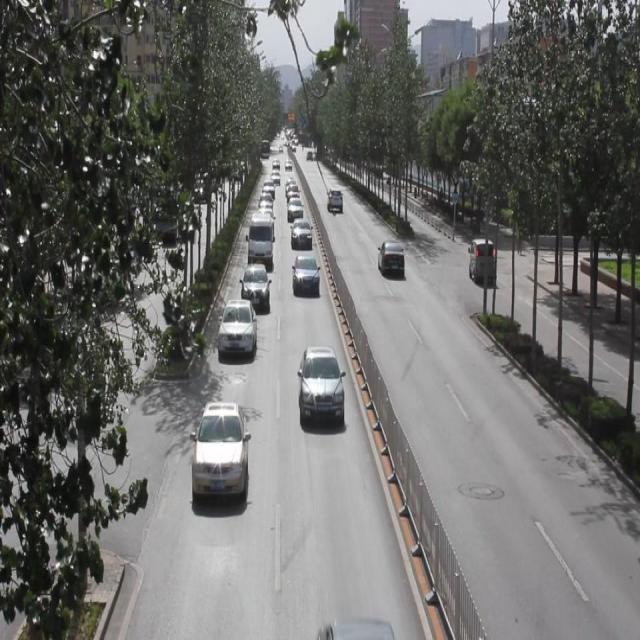car: (198, 383, 239, 534), (301, 347, 348, 429), (462, 233, 504, 300), (372, 231, 407, 290), (221, 295, 257, 351), (282, 253, 330, 295), (245, 217, 281, 269), (326, 182, 349, 228), (294, 213, 316, 250)
